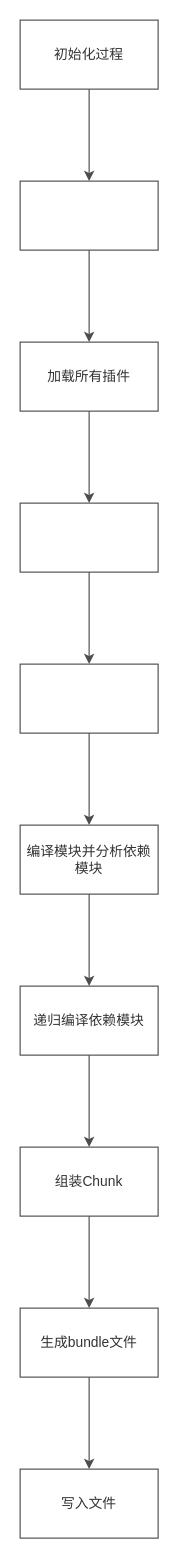
Image size: 178x1558. Some labels were removed from this diagram. The shapes that lost their labels are listed below. From the top down, each one's centre as x and y in pixels, then its label:
At point (88, 215): "初始化Compiler".
At point (88, 537): "run方法开始编译".
At point (88, 698): "Loader转换".
